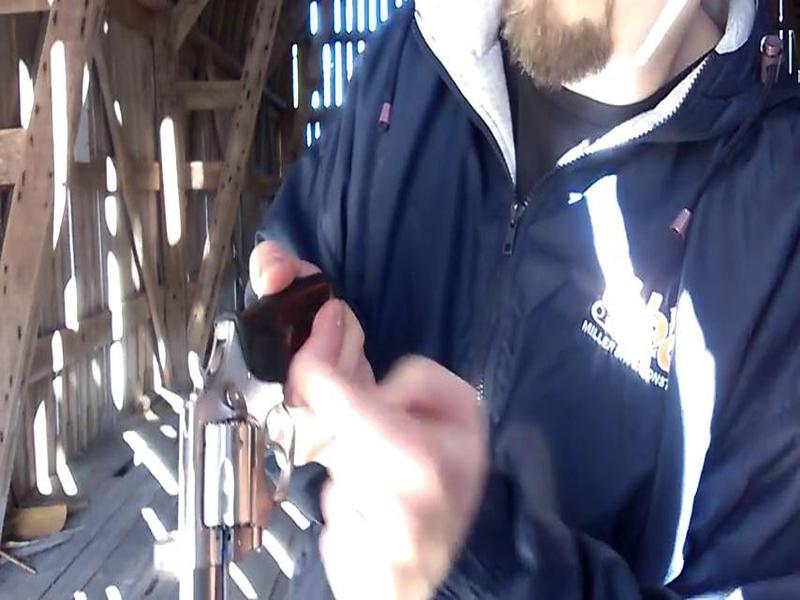Revolver: (159, 287, 352, 600)
